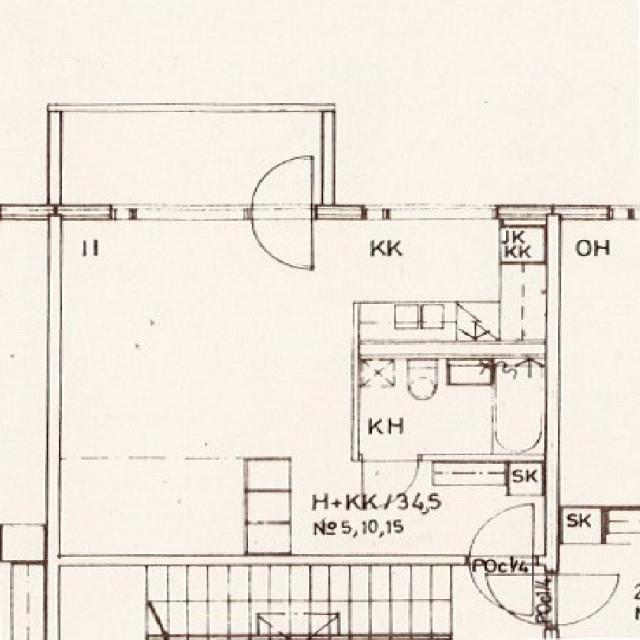door: (469, 554, 533, 618), (469, 501, 533, 565), (251, 154, 312, 220), (251, 205, 312, 271), (362, 454, 417, 506)
